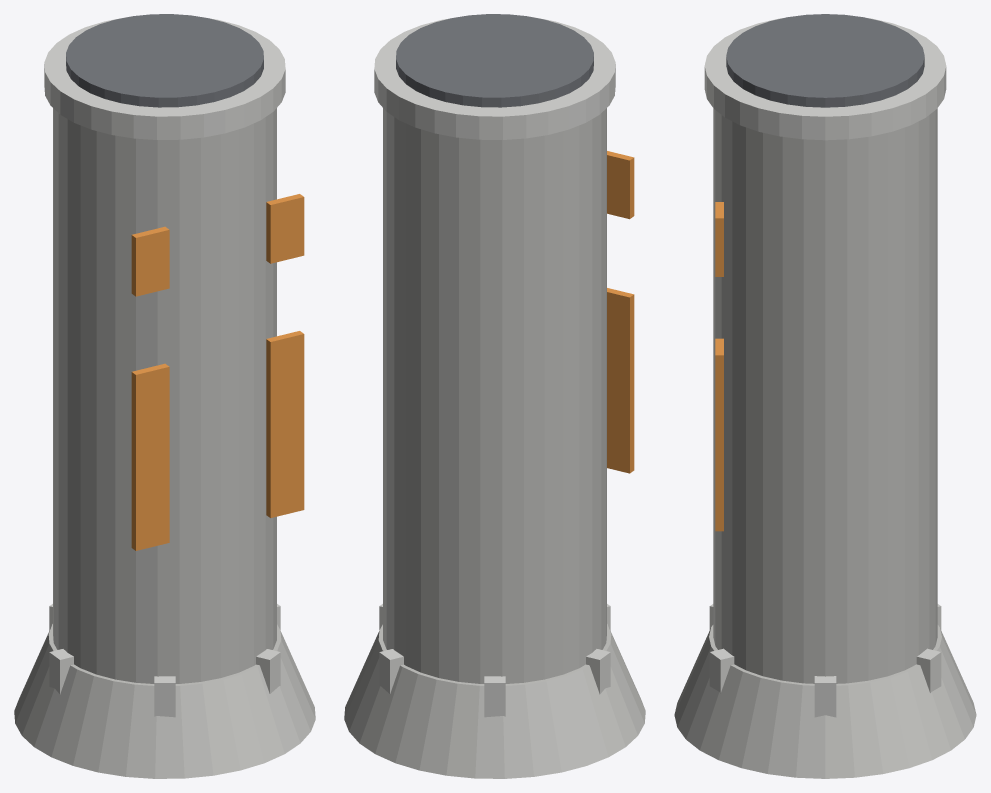
The model's file is cooling_tower_script.glb.
3 renders of one model, left to right at view 1: azimuth 30°, elevation 25°; view 2: azimuth 150°, elevation 25°; view 3: azimuth 270°, elevation 25°, orthographic.
Visible parts, largest first — view 1: Cylinder, Cone, Cylinder.002, Cylinder.001, Cube, Cube.002, Cube.001, Cube.003, Cube.010, Cube.009, Cube.011; view 2: Cylinder, Cone, Cylinder.002, Cylinder.001, Cube, Cube.001, Cube.008, Cube.009, Cube.007; view 3: Cylinder, Cone, Cylinder.002, Cylinder.001, Cube.002, Cube.006, Cube.007, Cube.011, Cube.003.
Boxes of the visible parts, left/top/right/bottom form: Cylinder: left=53, top=108, right=276, bottom=683; Cone: left=14, top=624, right=315, bottom=778; Cylinder.002: left=66, top=14, right=263, bottom=107; Cylinder.001: left=44, top=17, right=285, bottom=139; Cube: left=131, top=363, right=169, bottom=550; Cube.002: left=266, top=331, right=304, bottom=517; Cube.001: left=131, top=226, right=169, bottom=296; Cube.003: left=266, top=194, right=304, bottom=263; Cube.010: left=154, top=676, right=175, bottom=717; Cube.009: left=49, top=649, right=73, bottom=694; Cube.011: left=256, top=649, right=280, bottom=693; Cylinder: left=383, top=108, right=606, bottom=683; Cone: left=344, top=624, right=645, bottom=778; Cylinder.002: left=396, top=14, right=593, bottom=107; Cylinder.001: left=374, top=17, right=615, bottom=139; Cube: left=607, top=288, right=634, bottom=473; Cube.001: left=607, top=151, right=634, bottom=219; Cube.008: left=484, top=676, right=505, bottom=717; Cube.009: left=586, top=649, right=610, bottom=694; Cube.007: left=379, top=649, right=403, bottom=693; Cylinder: left=713, top=108, right=937, bottom=683; Cone: left=674, top=625, right=976, bottom=778; Cylinder.002: left=726, top=14, right=924, bottom=107; Cylinder.001: left=704, top=18, right=946, bottom=140; Cube.002: left=715, top=338, right=723, bottom=531; Cube.006: left=814, top=676, right=836, bottom=717; Cube.007: left=916, top=648, right=941, bottom=693; Cube.011: left=709, top=648, right=734, bottom=693; Cube.003: left=715, top=202, right=723, bottom=276.
Bounding box in the file's own units: 14 × 33.7 × 14.
